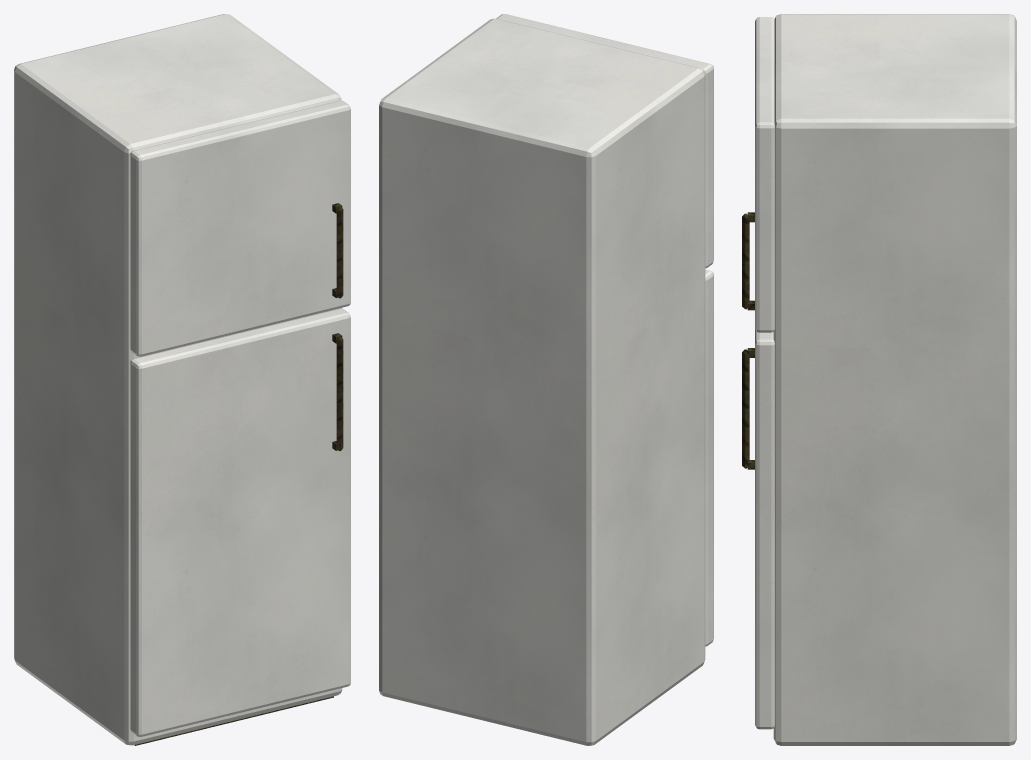
File: fridge.fbx
3 renders of one model, left to right at view 1: azimuth 30°, elevation 25°; view 2: azimuth 150°, elevation 25°; view 3: azimuth 270°, elevation 25°, orthographic. The views are drawn at different scales.
Parts seen in each view (by area): view 1: fridge; view 2: fridge; view 3: fridge.
Part boxes in pixels (x1,y1,x2,y2): fridge: (14,14,350,745); fridge: (379,14,713,745); fridge: (742,14,1016,745).
Size of what is drawn, in the model's own units: 70 by 185 by 73.5.
2 materials, 2 textured.
